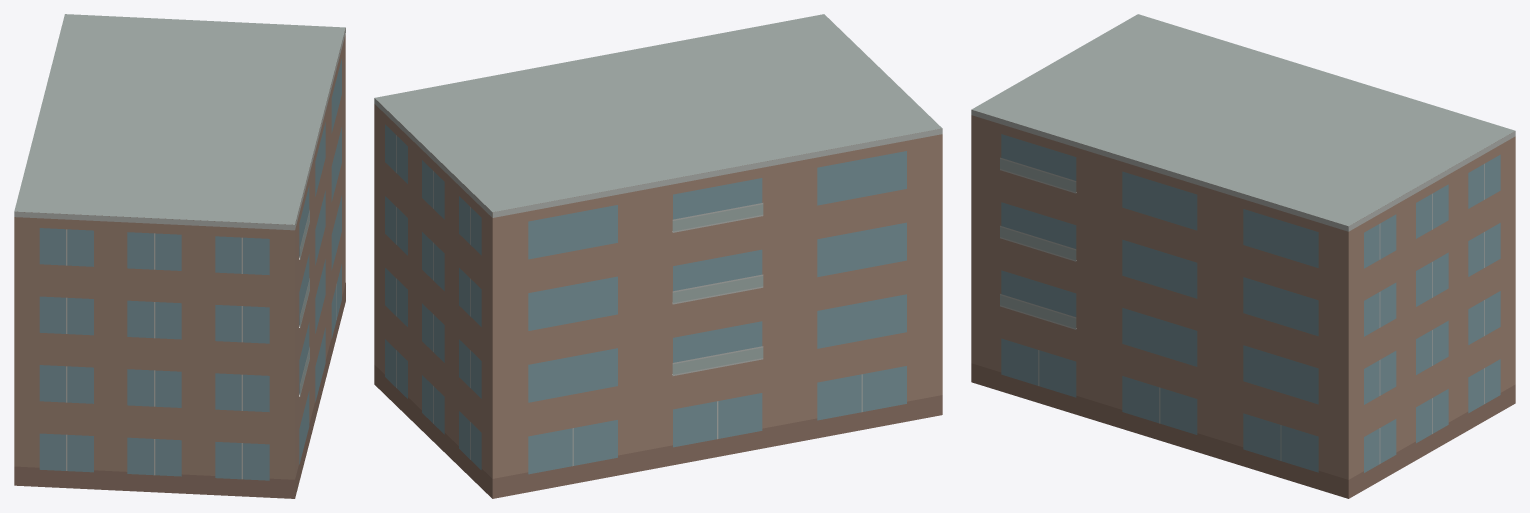
File: survey-upis-32803534.glb
3 renders of one model, left to right at view 1: azimuth 30°, elevation 25°; view 2: azimuth 150°, elevation 25°; view 3: azimuth 270°, elevation 25°, orthographic. The views are drawn at different scales.
Visible parts, largest first — view 1: survey-upis-32803534.tmp; view 2: survey-upis-32803534.tmp; view 3: survey-upis-32803534.tmp.
Boxes of the visible parts, x1,y1,x2,y2 form: survey-upis-32803534.tmp: (14,14,345,498); survey-upis-32803534.tmp: (374,14,942,498); survey-upis-32803534.tmp: (971,14,1515,498).
Size of the model in its own units: 20.39 by 12.2 by 22.09.
